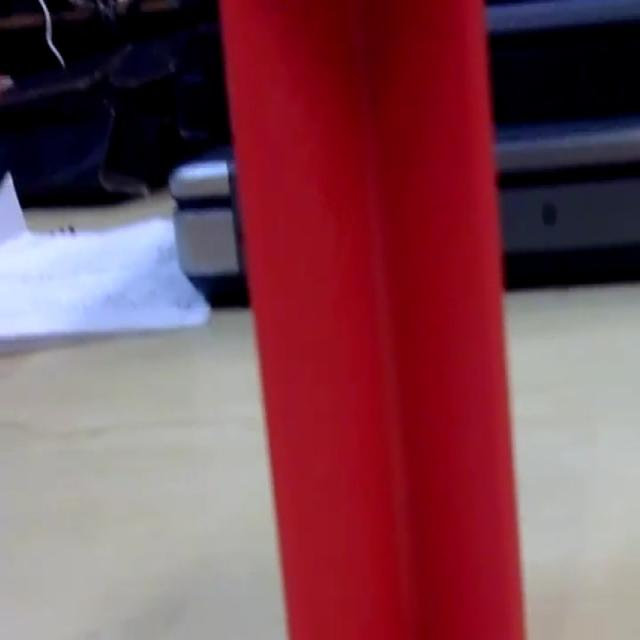red_block: (218, 0, 528, 636)
